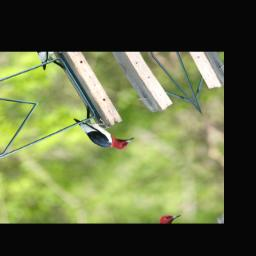Woodpecker: (73, 103, 137, 160)
